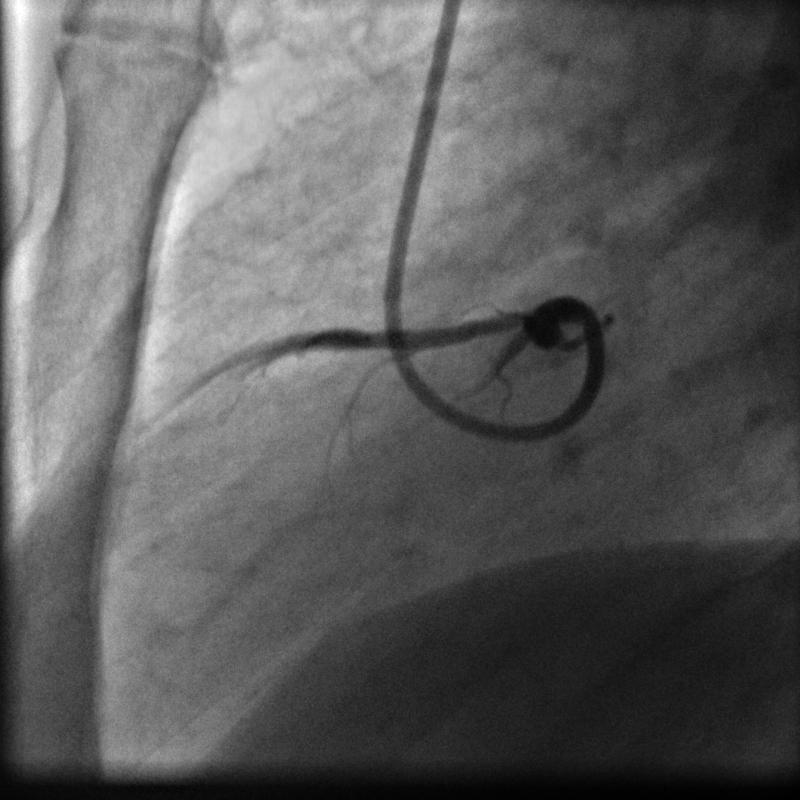Stenosis: (361, 326, 384, 352)
